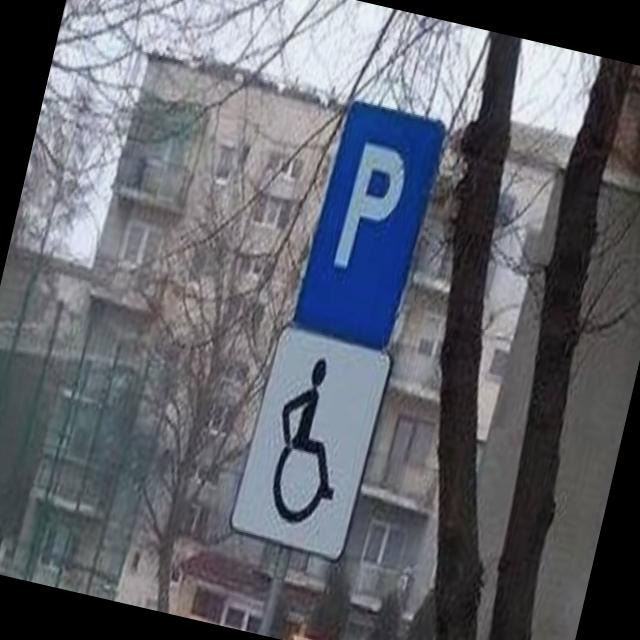symbol_of_access: (244, 336, 380, 544)
